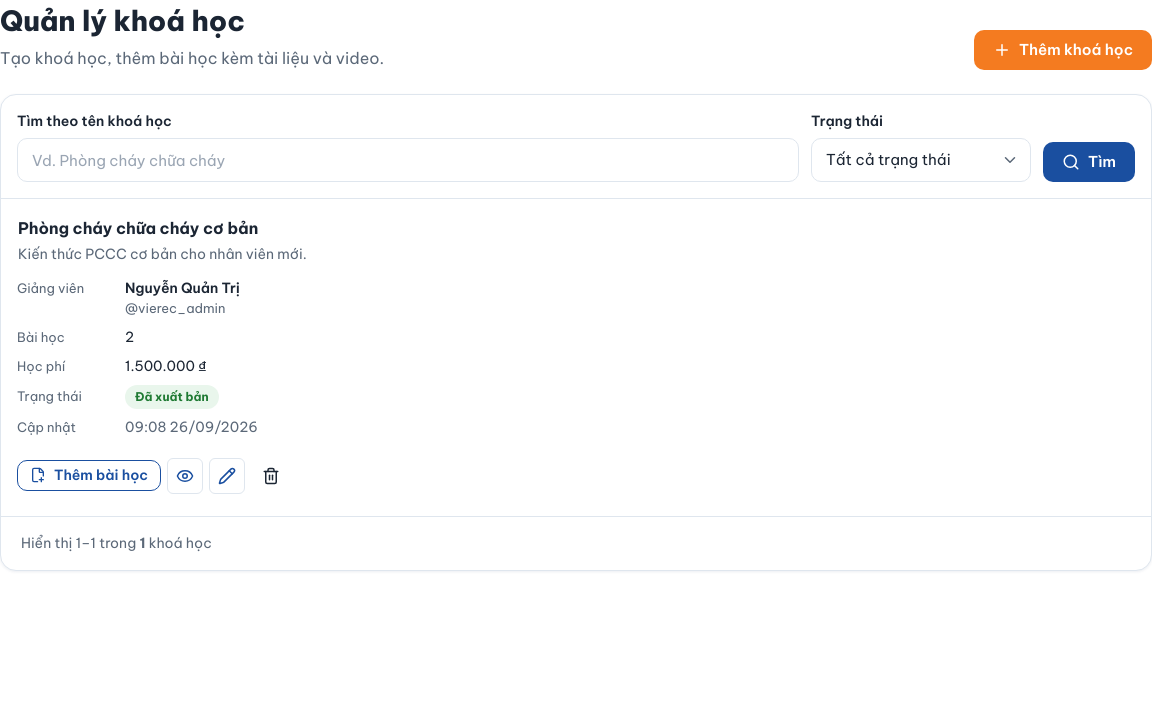
Test: CoursesPage › keeps the dialog open with a message when deletion fails, and Esc cancels
The image size is (1152, 720).
Click the button named "Xoá khoá Phòng cháy chữa cháy cơ bản" at (271, 476), box [251,456,291,496]
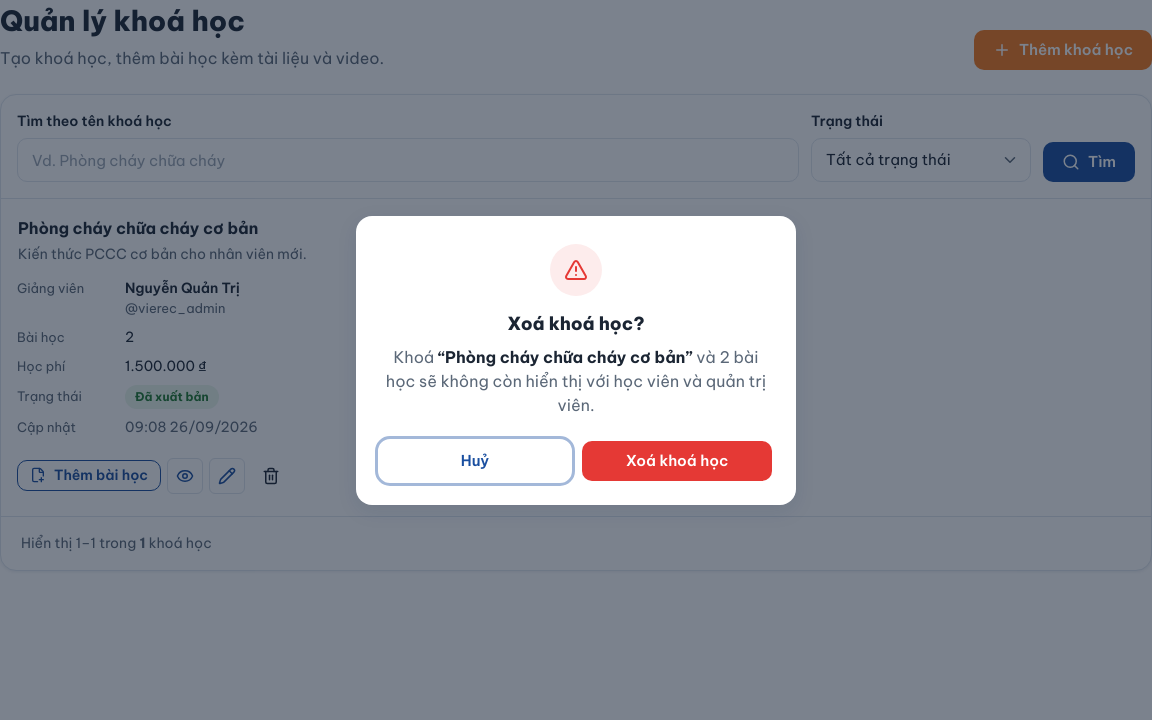
Click the button "Xoá khoá học" at (677, 460), box [582,440,772,480]
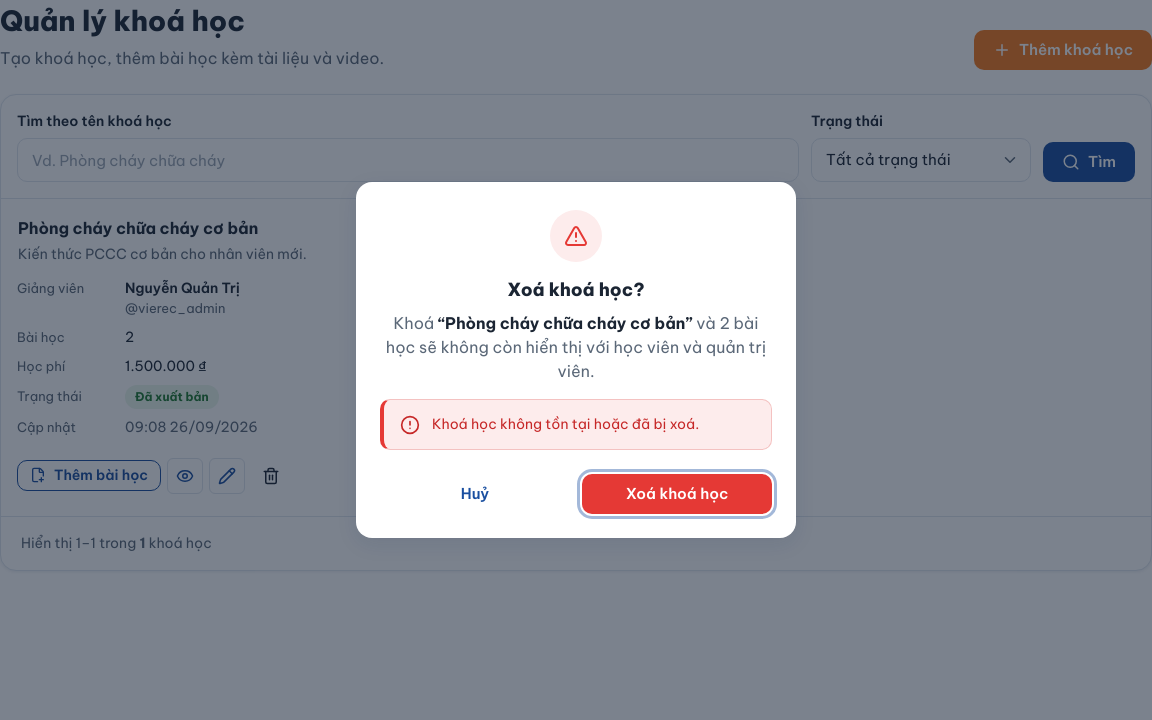
Expected: the message reads "Khoá học không tồn tại hoặc đã bị xoá.", [432,415,699,433]
Press Escape
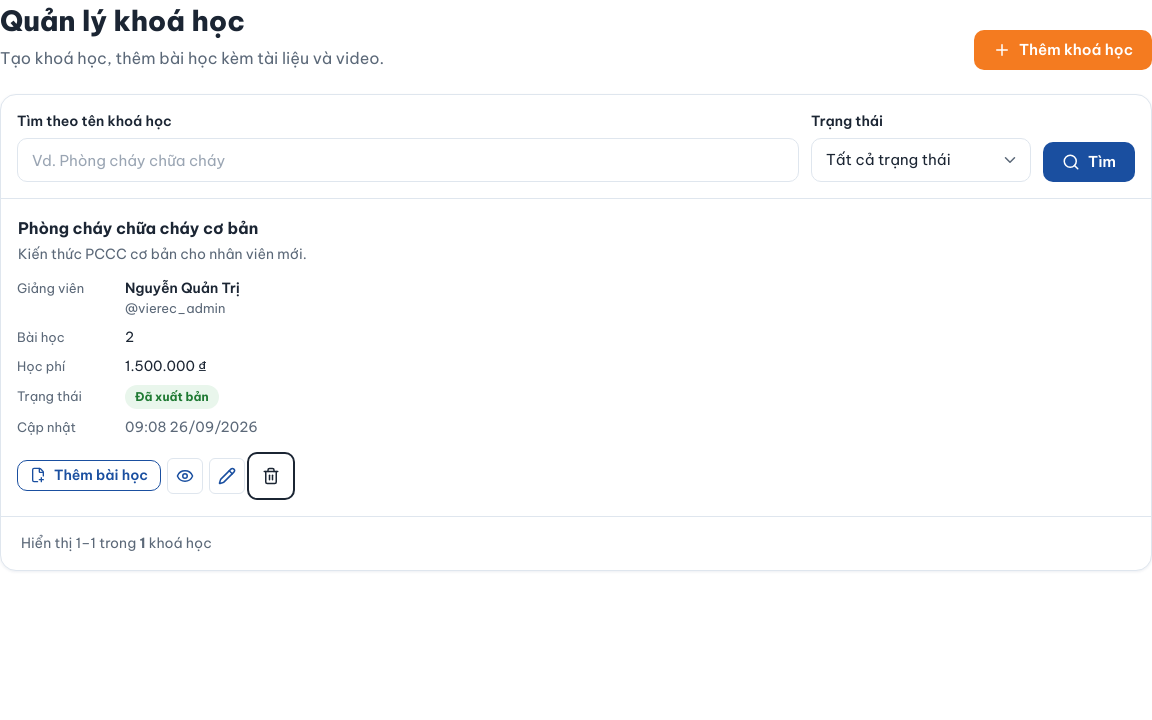
Expected: the dialog is gone
